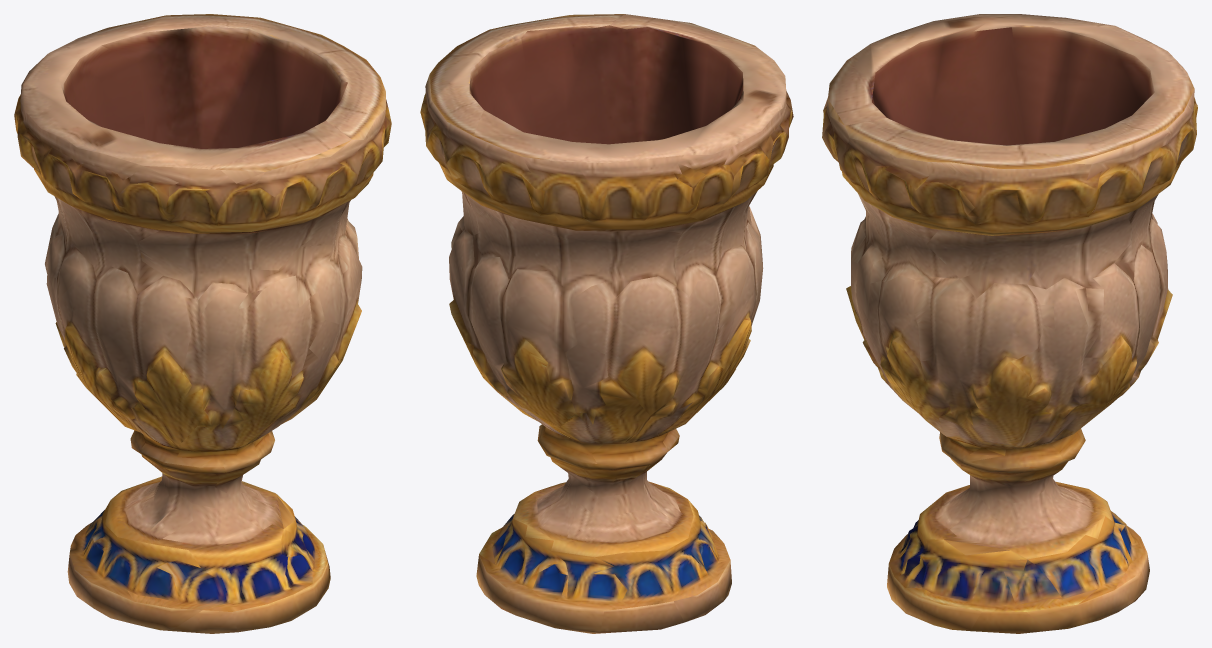
Rendered from pot-urn.glb.
The picture shows the model from 3 angles, left to right: view 1: azimuth 30°, elevation 25°; view 2: azimuth 150°, elevation 25°; view 3: azimuth 270°, elevation 25°; orthographic projection.
Visible parts, largest first — view 1: pot-urn; view 2: pot-urn; view 3: pot-urn.
Boxes of the visible parts, box(x1,y1,x2,y2) form: pot-urn: box(14, 14, 391, 633); pot-urn: box(420, 14, 793, 633); pot-urn: box(822, 14, 1197, 633).
Size of the model in its own units: 0.8682 by 1.28 by 0.8674.
Materials: 1 (1 with a texture image).
